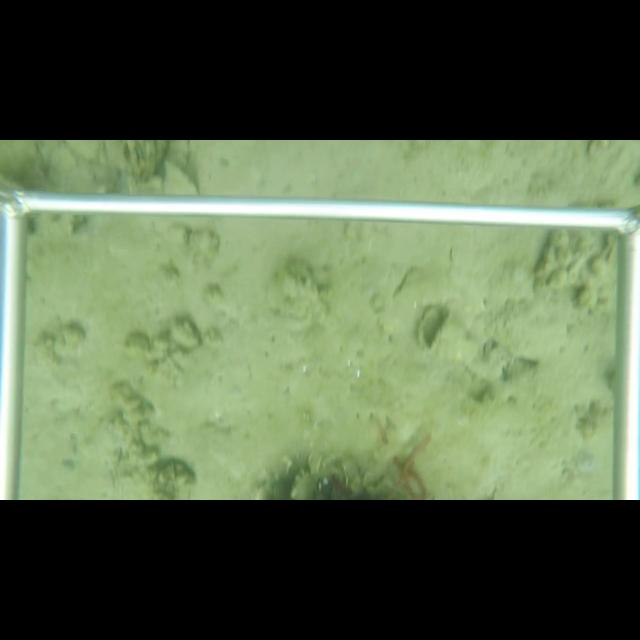Oyster-Closed: (161, 157, 203, 195)
Oyster-Open: (416, 303, 455, 353)
